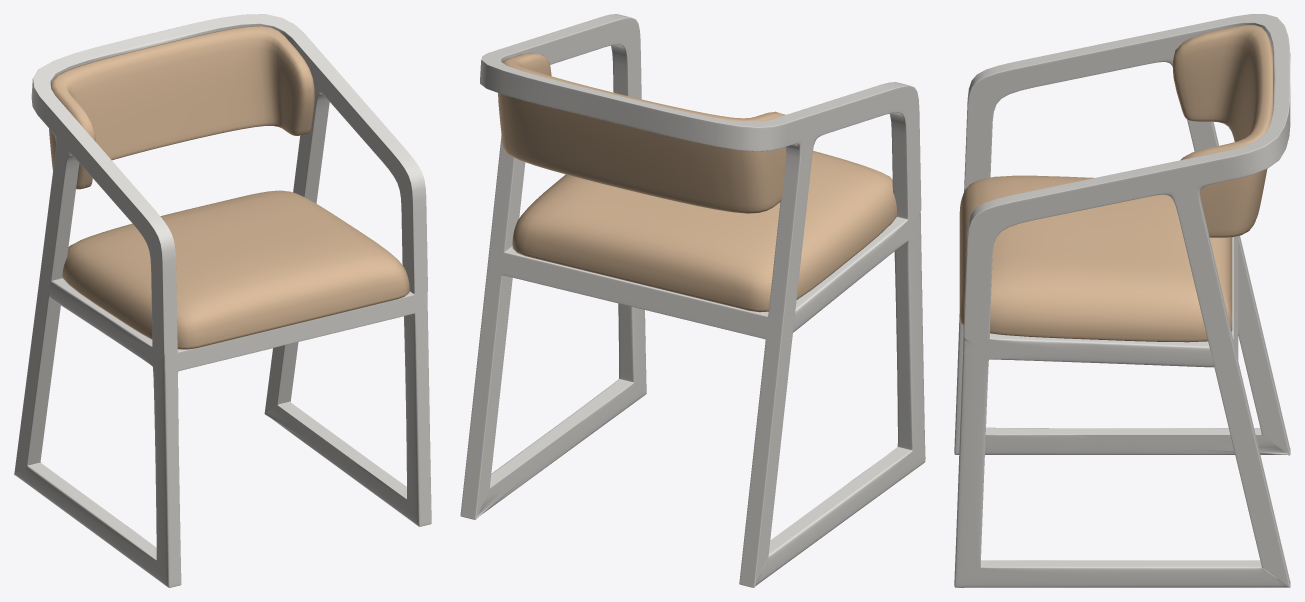
Rendered from Desk_chair.fbx.
3 views of the same model, side by side, from view 1: azimuth 30°, elevation 25°; view 2: azimuth 150°, elevation 25°; view 3: azimuth 270°, elevation 25° (orthographic). The views are drawn at different scales.
Visible parts, largest first — view 1: Frame2, Seat_pillow, Back_pillow; view 2: Frame2, Seat_pillow, Back_pillow; view 3: Frame2, Seat_pillow, Back_pillow.
Boxes of the visible parts, bbox=[...] form: Frame2: bbox=[14, 14, 431, 587]; Seat_pillow: bbox=[62, 190, 409, 349]; Back_pillow: bbox=[49, 26, 314, 189]; Frame2: bbox=[460, 14, 925, 587]; Seat_pillow: bbox=[512, 151, 896, 312]; Back_pillow: bbox=[498, 52, 786, 213]; Frame2: bbox=[954, 14, 1290, 587]; Seat_pillow: bbox=[959, 175, 1232, 342]; Back_pillow: bbox=[1172, 25, 1273, 237].
Bounding box in the file's own units: 55.99 × 82.76 × 56.78.
